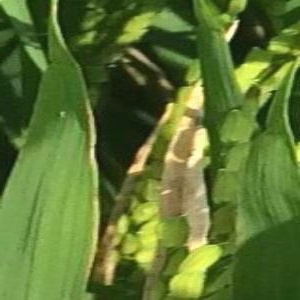Leaf_Blast: (9, 89, 102, 300)
